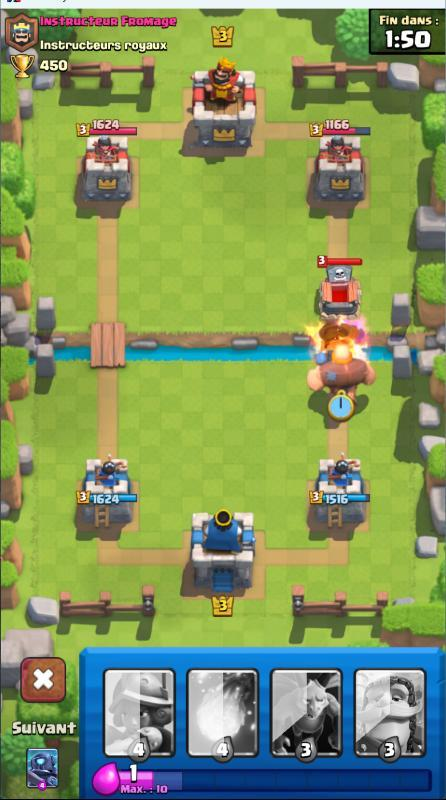enemy_tombstone: (310, 256, 370, 316)
player_bomber: (312, 346, 334, 369)
player_giant: (304, 333, 378, 421)
